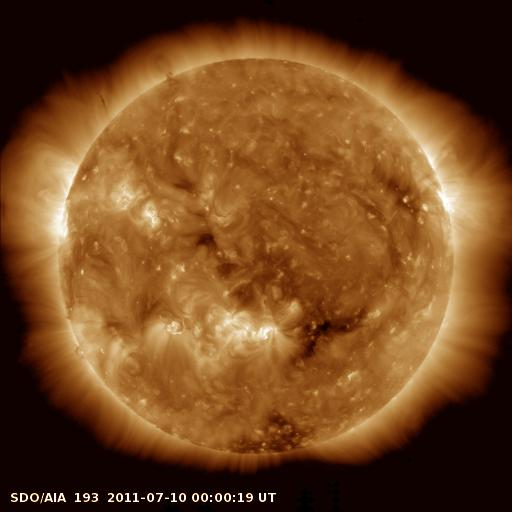coronal_hole: (225, 411, 316, 459), (293, 309, 369, 357)
